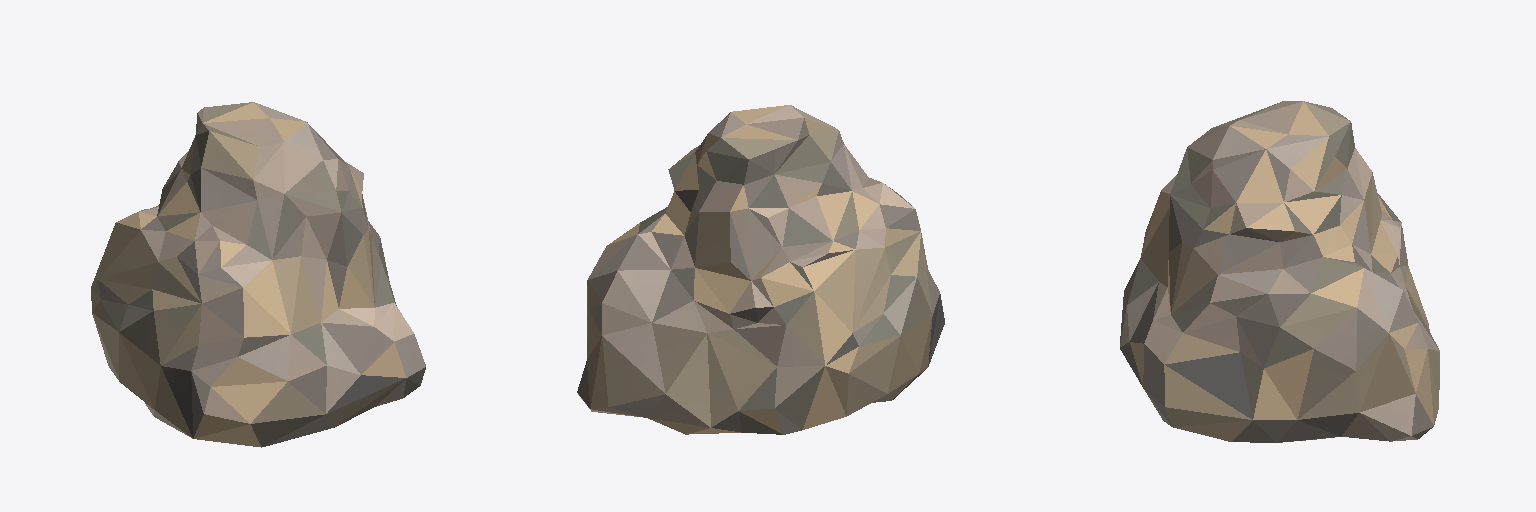
The picture shows the model from 3 angles: view 1: azimuth 30°, elevation 25°; view 2: azimuth 150°, elevation 25°; view 3: azimuth 270°, elevation 25°; orthographic projection.
Visible parts, largest first — view 1: Cube; view 2: Cube; view 3: Cube.
Boxes of the visible parts, x1,y1,x2,y2 form: Cube: [91, 102, 425, 447]; Cube: [577, 105, 944, 434]; Cube: [1120, 101, 1439, 442].
Bounding box in the file's own units: 5.36 × 5.1 × 5.52.
1 materials, 1 textured.